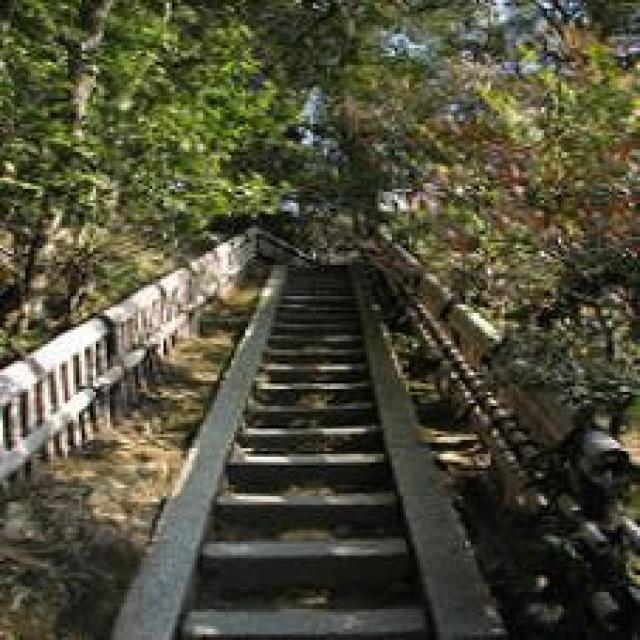upstair: (193, 399, 478, 633)
